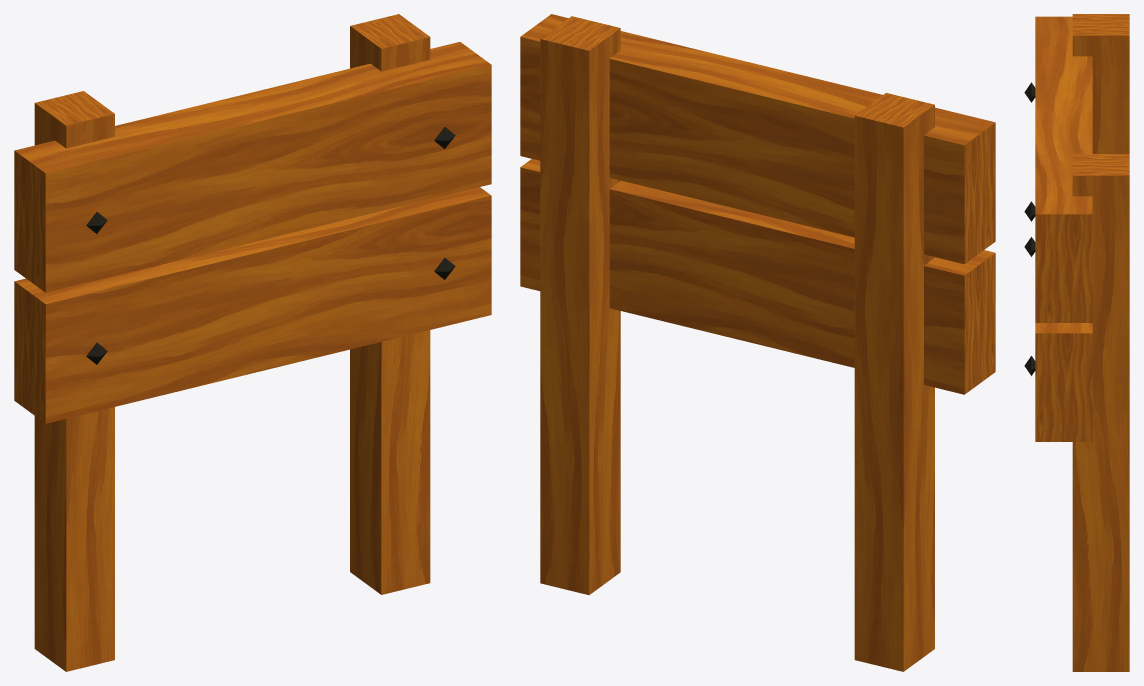
The model's file is order-board.obj.
3 views of the same model, side by side, from view 1: azimuth 30°, elevation 25°; view 2: azimuth 150°, elevation 25°; view 3: azimuth 270°, elevation 25° (orthographic). The views are drawn at different scales.
Parts seen in each view (by area): view 1: order-board; view 2: order-board; view 3: order-board.
Boxes of the visible parts, bbox=[...] form: order-board: bbox=[14, 14, 491, 671]; order-board: bbox=[520, 14, 995, 671]; order-board: bbox=[1024, 14, 1129, 671].
Size of the model in its own units: 0.82 by 0.96 by 0.1845.
Materials: 2 (2 with a texture image).
